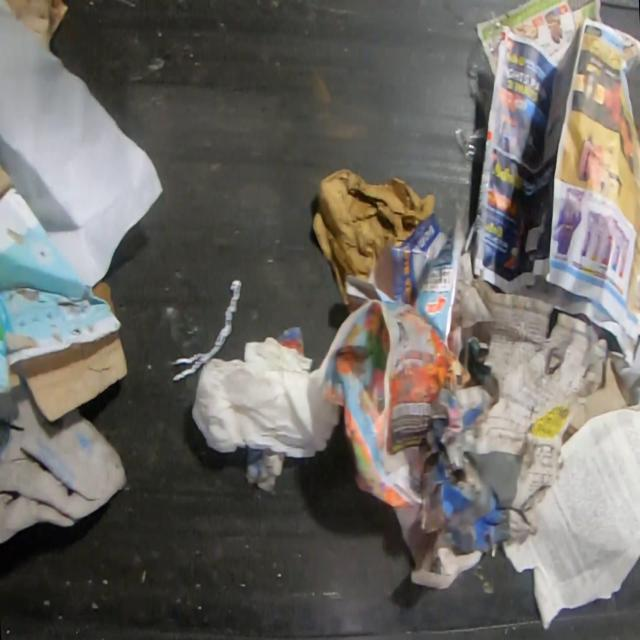cardboard: (0, 167, 127, 427), (562, 356, 636, 445)
soft_plastic: (465, 20, 502, 125), (452, 126, 486, 163)
